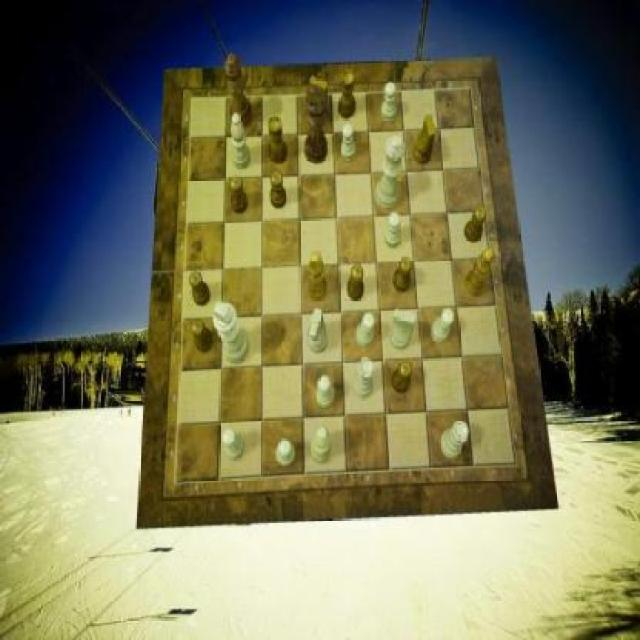bishop: (466, 250, 494, 298), (308, 251, 328, 300)
black-bishop: (304, 84, 328, 164)
black-king: (414, 114, 437, 164), (310, 76, 328, 124)
black-knight: (464, 206, 488, 242), (189, 271, 212, 307), (191, 319, 214, 353), (391, 361, 412, 394), (230, 177, 248, 215), (392, 257, 412, 291), (270, 171, 288, 208), (348, 264, 365, 300)
black-pawn: (224, 52, 253, 130)
black-queen: (268, 117, 288, 165), (339, 70, 356, 119)
black-rook: (231, 112, 251, 168), (310, 426, 332, 465)
white-bishop: (212, 301, 248, 364)
white-king: (391, 309, 417, 351), (308, 308, 328, 353)
white-knight: (431, 308, 454, 342), (223, 428, 246, 460), (384, 212, 402, 248), (382, 83, 398, 123), (357, 312, 375, 347), (341, 123, 357, 162), (316, 376, 334, 410), (277, 440, 297, 468)
white-pawn: (376, 135, 406, 210)
white-queen: (440, 420, 469, 458), (352, 357, 375, 398)
